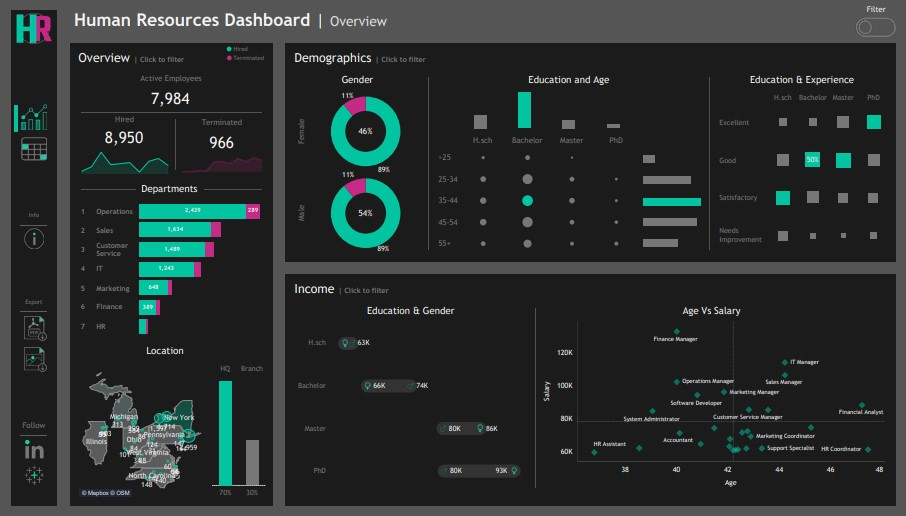

The dashboard page shown, as its layout file describes it:
{"tool":"tableau","page":{"name":"HR | Summary","canvas":[1000,1000],"units":"permille","ordinal":0},"visuals":[{"type":"text","box":[89.2,5.4,496.5,58]},{"type":"blank","box":[585.7,5.4,411.7,58]},{"type":"blank","box":[19.9,41.7,51.9,458.3]},{"type":"text","box":[95.2,76.1,209.5,56.2]},{"type":"text","box":[313.4,79.7,676.2,56.2]},{"type":"text","box":[95.2,132.2,209.5,39.9]},{"type":"text","box":[316,141.3,183.6,47.1]},{"type":"blank","box":[499.6,141.3,27.7,376.8]},{"type":"text","box":[527.3,141.3,265.8,47.1]},{"type":"blank","box":[793.1,141.3,38.1,376.8]},{"type":"text","box":[831.2,141.3,155.8,47.1]},{"type":"worksheet","title":"BAN Active","mark":"Text","box":[95.2,172.1,209.5,18.1]},{"type":"worksheet","title":"Gender","mark":"Pie","rows":["Gender"],"cols":["Calculation_0294982747766790","Calculation_0294982747766790"],"box":[316,188.4,183.6,329.7]},{"type":"worksheet","title":"Education Level","mark":"Bar","rows":["Calculation_0188879530409984"],"cols":["Education Level"],"box":[527.3,188.4,265.8,181.2]},{"type":"worksheet","title":"Educaton vs Performance Rating","mark":"Square","rows":["Performance Rating"],"cols":["Education Level"],"box":[831.2,188.4,155.8,329.7]},{"type":"blank","box":[95.2,190.2,209.5,43.5]},{"type":"text","box":[96.1,235.5,140.3,39.9]},{"type":"blank","box":[236.4,235.5,20.8,172.1]},{"type":"text","box":[257.1,235.5,46.7,54.4]},{"type":"worksheet","title":"BAN Hired","mark":"Text","box":[96.1,275.4,140.3,57.4]},{"type":"worksheet","title":"BAN Terminated","mark":"Text","box":[257.1,289.9,46.7,58]},{"type":"worksheet","title":"Hired by Year","mark":"Line","rows":["Calculation_0188879530409984","Calculation_0188879530409984"],"cols":["Hiredate"],"box":[96.1,332.7,140.3,74.9]},{"type":"worksheet","title":"Terminated by Year","mark":"Line","rows":["Calculation_0188879530569729","Calculation_0188879530569729"],"cols":["Termdate"],"box":[257.1,347.8,46.7,59.8]},{"type":"worksheet","title":"Age vs Education Level","mark":"Circle","rows":["Calculation_0294982753529864"],"cols":["Education Level"],"box":[527.3,369.5,174,148.6]},{"type":"worksheet","title":"Age Groups","mark":"Bar","rows":["Calculation_0294982753529864"],"cols":["Calculation_0188879530409984"],"box":[701.3,369.5,91.8,148.6]},{"type":"blank","box":[95.2,409.4,72.2,79.7]},{"type":"text","box":[167.4,409.4,65.2,79.7]},{"type":"blank","box":[232.6,409.4,72.2,79.7]},{"type":"worksheet","title":"Departments","mark":"Bar","rows":["Calculation_0294982740545539","Department"],"cols":["Calculation_0188879530409984"],"box":[95.2,489.1,209.5,96]},{"type":"blank","box":[19.9,500,51.9,458.3]},{"type":"text","box":[313.4,534.4,676.2,56.2]},{"type":"blank","box":[95.2,585.1,73.3,63.4]},{"type":"text","box":[168.5,585.1,62.9,63.4]},{"type":"blank","box":[231.5,585.1,73.3,63.4]},{"type":"text","box":[316,596,321.2,47.1]},{"type":"blank","box":[637.2,596,28.6,376.9]},{"type":"text","box":[665.8,596,321.2,47.1]},{"type":"worksheet","title":"Gender vs Education Level","mark":"Square","rows":["Education Level"],"cols":["Salary","Salary"],"box":[316,643.1,321.2,329.7]},{"type":"worksheet","title":"Age vs Salary","mark":"Shape","rows":["Salary"],"cols":["Calculation_0294982752317447"],"box":[665.8,643.1,321.2,329.8]},{"type":"worksheet","title":"Map States","mark":"Multipolygon","box":[95.2,648.5,146.6,333.4]},{"type":"worksheet","title":"Location","mark":"Bar","rows":["Calculation_0188879530409984"],"cols":["Calculation_0294982742691844","Calculation1"],"box":[241.8,648.5,63,333.4]}]}

Visuals, with their boxes on the dashboard's canvas, which has no fixed pixel size, in thousandths of its width and height (x1, y1, x2, y2). These are canvas units, not pixel positions in the 906x516 screenshot, which may show the page scaled, cropped or inside an application window:
text: bbox(89, 5, 586, 63)
blank: bbox(586, 5, 997, 63)
blank: bbox(20, 42, 72, 500)
text: bbox(95, 76, 305, 132)
text: bbox(313, 80, 990, 136)
text: bbox(95, 132, 305, 172)
text: bbox(316, 141, 500, 188)
blank: bbox(500, 141, 527, 518)
text: bbox(527, 141, 793, 188)
blank: bbox(793, 141, 831, 518)
text: bbox(831, 141, 987, 188)
"BAN Active" worksheet (Text marks): bbox(95, 172, 305, 190)
"Gender" worksheet (Pie marks): bbox(316, 188, 500, 518)
"Education Level" worksheet (Bar marks): bbox(527, 188, 793, 370)
"Educaton vs Performance Rating" worksheet (Square marks): bbox(831, 188, 987, 518)
blank: bbox(95, 190, 305, 234)
text: bbox(96, 236, 236, 275)
blank: bbox(236, 236, 257, 408)
text: bbox(257, 236, 304, 290)
"BAN Hired" worksheet (Text marks): bbox(96, 275, 236, 333)
"BAN Terminated" worksheet (Text marks): bbox(257, 290, 304, 348)
"Hired by Year" worksheet (Line marks): bbox(96, 333, 236, 408)
"Terminated by Year" worksheet (Line marks): bbox(257, 348, 304, 408)
"Age vs Education Level" worksheet (Circle marks): bbox(527, 370, 701, 518)
"Age Groups" worksheet (Bar marks): bbox(701, 370, 793, 518)
blank: bbox(95, 409, 167, 489)
text: bbox(167, 409, 233, 489)
blank: bbox(233, 409, 305, 489)
"Departments" worksheet (Bar marks): bbox(95, 489, 305, 585)
blank: bbox(20, 500, 72, 958)
text: bbox(313, 534, 990, 591)
blank: bbox(95, 585, 168, 648)
text: bbox(168, 585, 231, 648)
blank: bbox(232, 585, 305, 648)
text: bbox(316, 596, 637, 643)
blank: bbox(637, 596, 666, 973)
text: bbox(666, 596, 987, 643)
"Gender vs Education Level" worksheet (Square marks): bbox(316, 643, 637, 973)
"Age vs Salary" worksheet (Shape marks): bbox(666, 643, 987, 973)
"Map States" worksheet (Multipolygon marks): bbox(95, 648, 242, 982)
"Location" worksheet (Bar marks): bbox(242, 648, 305, 982)
